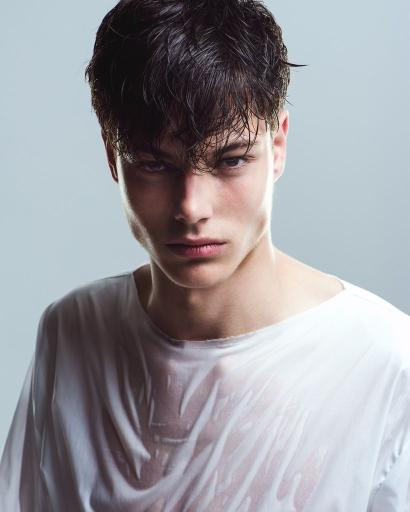left_eye: (217, 154, 252, 173)
left_lip_corner: (218, 236, 234, 251)
right_eye: (135, 159, 174, 174)
right_lip_corner: (162, 239, 176, 251)
